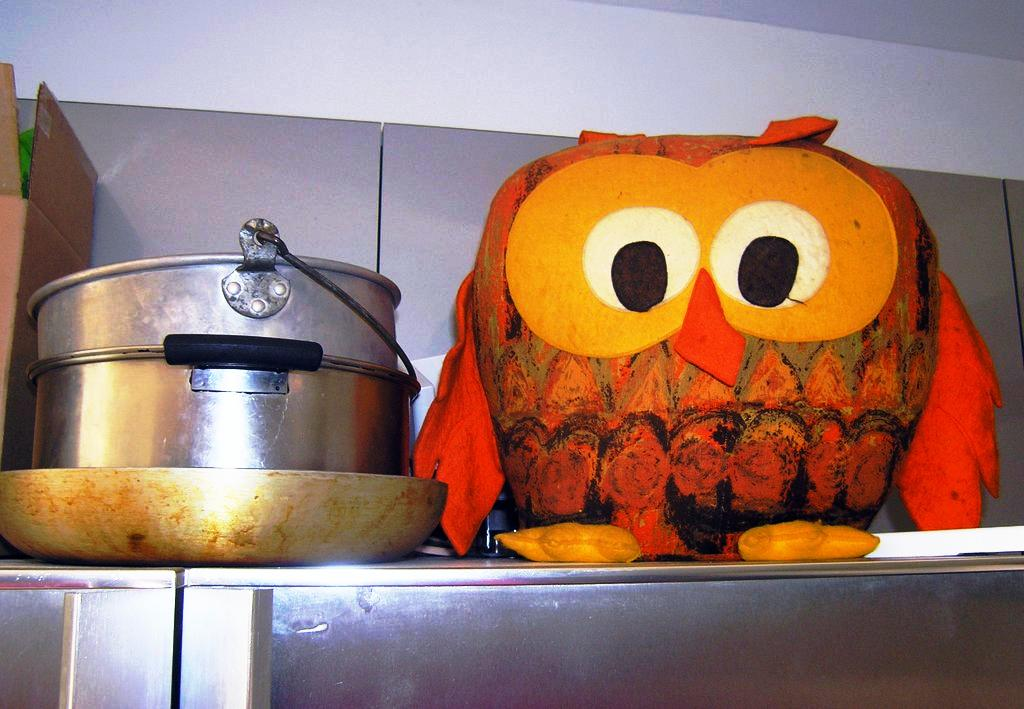Owl: (406, 115, 1003, 565)
